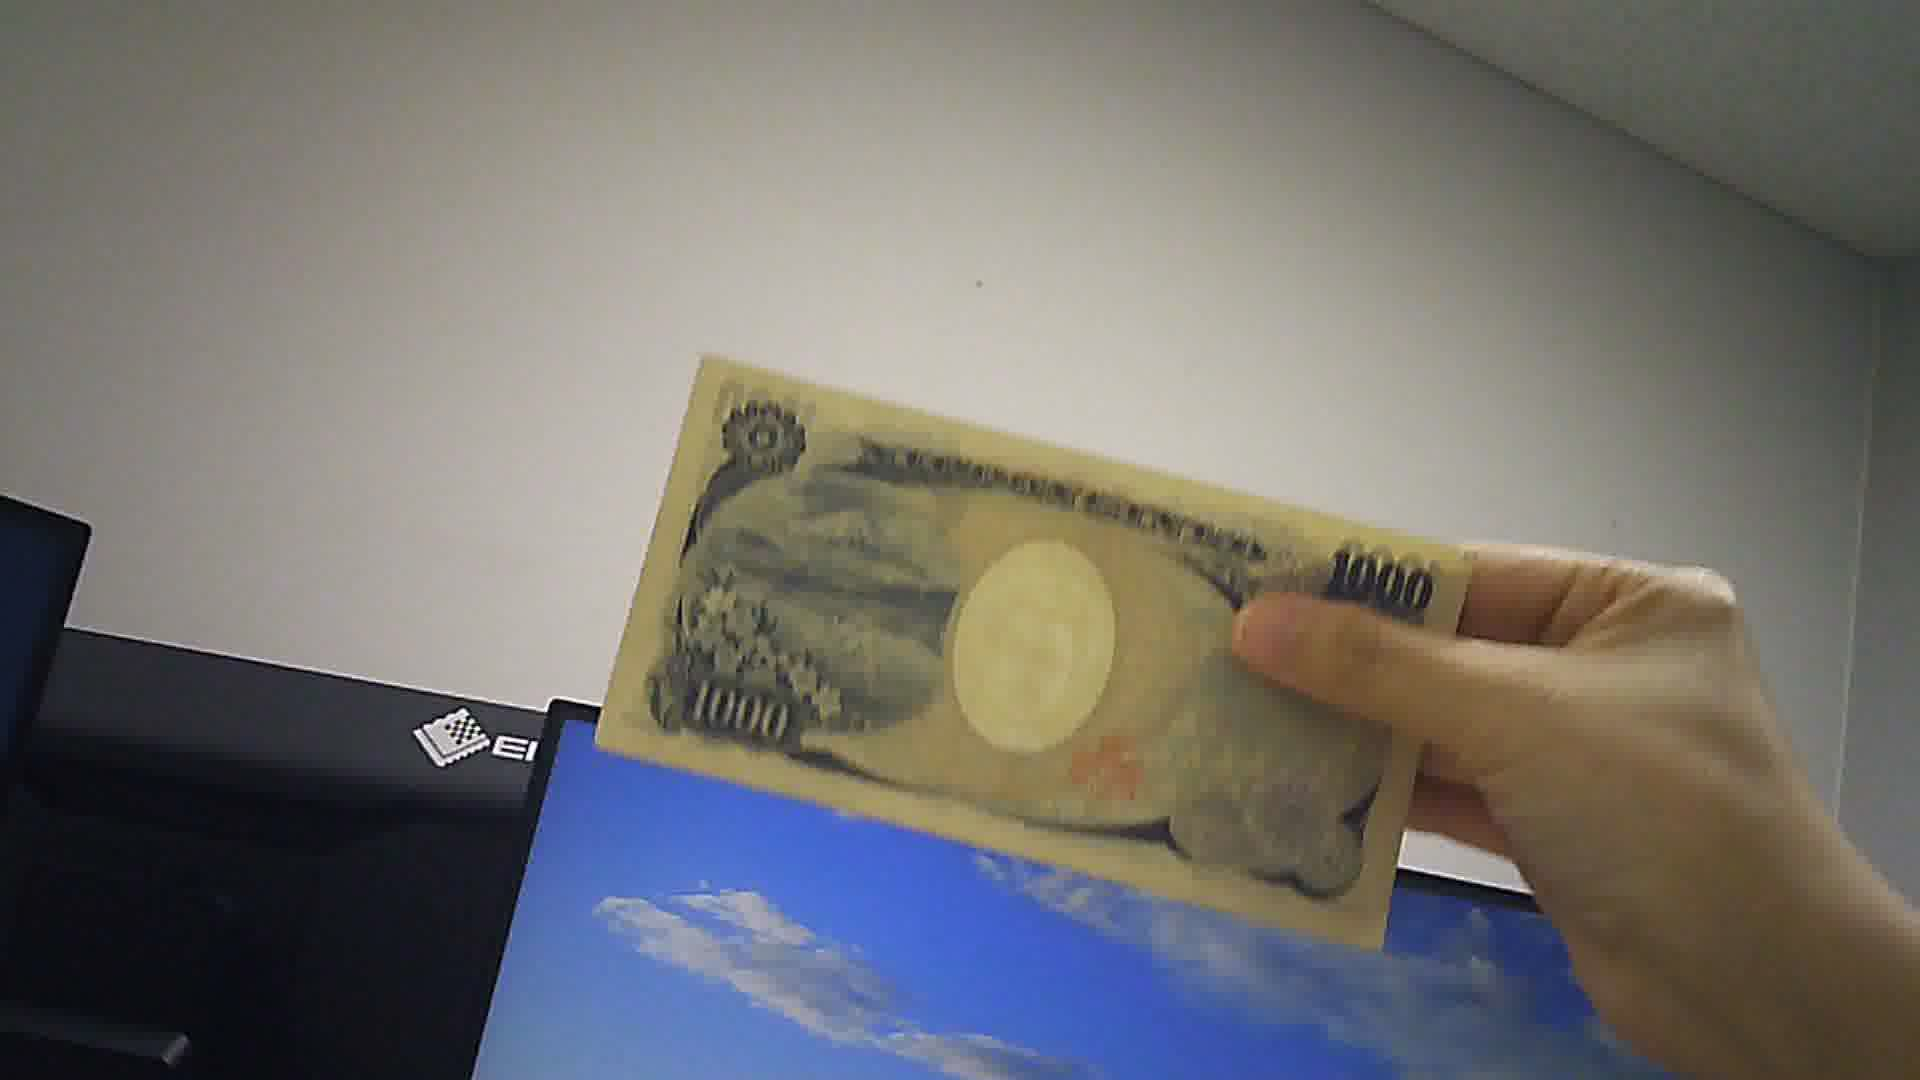1,000 Yen: (587, 328, 1513, 959)
